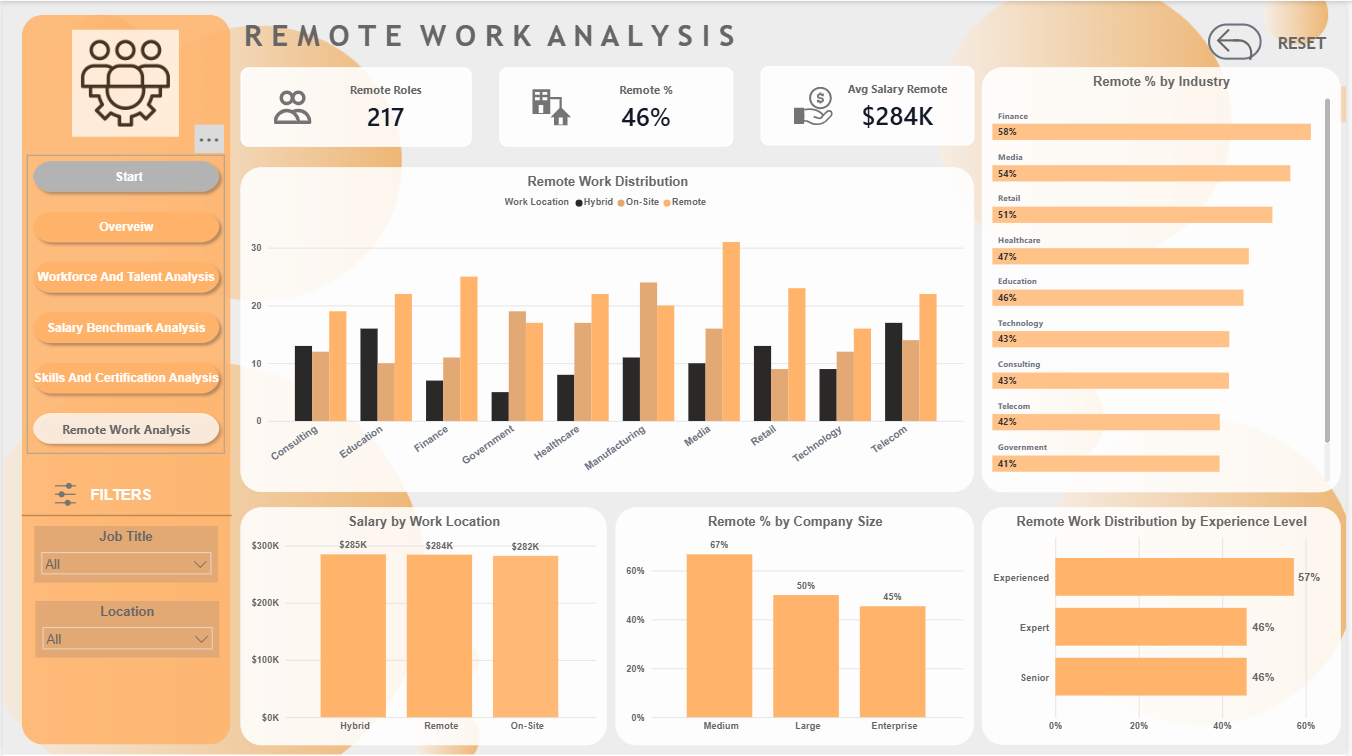

The dashboard page shown, as its layout file describes it:
{"tool":"powerbi","page":{"name":"Remote Work Analysis","canvas":[1920,1080],"ordinal":5},"visuals":[{"type":"clusteredBarChart","title":"Remote % by Industry","fields":{"Category":["Dim_Industry.industry"],"Y":["_Measures (2).label space holder","_Measures (2).Remote %"]},"box":[1398.2,94.6,512.5,607.1],"z":0},{"type":"shape","box":[27,19.8,298.4,1042.7],"z":1000},{"type":"clusteredColumnChart","title":"Remote % by Company Size ","fields":{"Category":["Dim_Company.company_size"],"Y":["_Measures (2).Remote %"]},"box":[875.5,722.7,512.4,339.8],"z":2000},{"type":"clusteredColumnChart","title":"Remote Work Distribution","fields":{"Category":["Dim_Industry.industry","Dim_Job.job_title"],"Y":["_Measures (2).Total Roles"],"Series":["Dim_Worklocation.remote_work"]},"box":[339.8,237.3,1048.1,463.8],"z":3000},{"type":"pageNavigator","box":[34.2,219.3,284,427.9],"z":4000},{"type":"image","box":[86.3,41.3,178,152.8],"z":5000},{"type":"shape","box":[27,706.5,300.2,55.7],"z":6000},{"type":"textbox","box":[339.8,19.5,746.6,84.4],"z":7000},{"type":"cardVisual","fields":{"Data":["_Measures (2).Remote %"]},"box":[708.3,95.3,334.4,113.3],"z":8000},{"type":"cardVisual","fields":{"Data":["_Measures (2).Avg Salary Remote"]},"box":[1082.2,93.5,305.6,113.3],"z":9000},{"type":"cardVisual","fields":{"Data":["_Measures (2).Remote Roles"]},"box":[339.8,95.3,330.8,113.3],"z":10000},{"type":"clusteredColumnChart","title":"Salary by Work Location","fields":{"Category":["Dim_Worklocation.remote_work"],"Y":["_Measures (2).Avg Salary"]},"box":[339.8,722.7,523.1,339.8],"z":11000},{"type":"textbox","box":[73.7,688.5,190.6,36],"z":12000},{"type":"image","box":[56.1,684.1,67,41.6],"z":13000},{"type":"slicer","title":"Job Title","fields":{"Values":["Dim_Job.job_title"]},"box":[44.9,749.7,262.5,80.9],"z":14000},{"type":"slicer","title":"Location","fields":{"Values":["Dim_Geo.location"]},"box":[46.7,857.5,262.5,80.9],"z":15000},{"type":"barChart","title":"Remote Work Distribution by Experience Level","fields":{"Y":["_Measures (2).Remote %"],"Category":["Fact_Workforce.Experience Category"]},"box":[1398.2,723.2,512.5,339.3],"z":16000},{"type":"actionButton","title":"Reset","box":[1721.4,32.1,76.8,51.8],"z":17000},{"type":"textbox","box":[1816.1,41.1,94.6,76.8],"z":18000}]}

Visuals, with their boxes on the page's 1920x1080 design canvas (x1, y1, x2, y2). These are canvas units, not pixel positions in the 1352x756 screenshot, which may show the page scaled, cropped or inside an application window:
"Remote % by Industry" clusteredBarChart: (x1=1398, y1=95, x2=1911, y2=702)
shape: (x1=27, y1=20, x2=325, y2=1062)
"Remote % by Company Size " clusteredColumnChart: (x1=876, y1=723, x2=1388, y2=1062)
"Remote Work Distribution" clusteredColumnChart: (x1=340, y1=237, x2=1388, y2=701)
pageNavigator: (x1=34, y1=219, x2=318, y2=647)
image: (x1=86, y1=41, x2=264, y2=194)
shape: (x1=27, y1=706, x2=327, y2=762)
textbox: (x1=340, y1=20, x2=1086, y2=104)
cardVisual - _Measures (2).Remote %: (x1=708, y1=95, x2=1043, y2=209)
cardVisual - _Measures (2).Avg Salary Remote: (x1=1082, y1=94, x2=1388, y2=207)
cardVisual - _Measures (2).Remote Roles: (x1=340, y1=95, x2=671, y2=209)
"Salary by Work Location" clusteredColumnChart: (x1=340, y1=723, x2=863, y2=1062)
textbox: (x1=74, y1=688, x2=264, y2=724)
image: (x1=56, y1=684, x2=123, y2=726)
"Job Title" slicer: (x1=45, y1=750, x2=307, y2=831)
"Location" slicer: (x1=47, y1=858, x2=309, y2=938)
"Remote Work Distribution by Experience Level" barChart: (x1=1398, y1=723, x2=1911, y2=1062)
"Reset" actionButton: (x1=1721, y1=32, x2=1798, y2=84)
textbox: (x1=1816, y1=41, x2=1911, y2=118)
